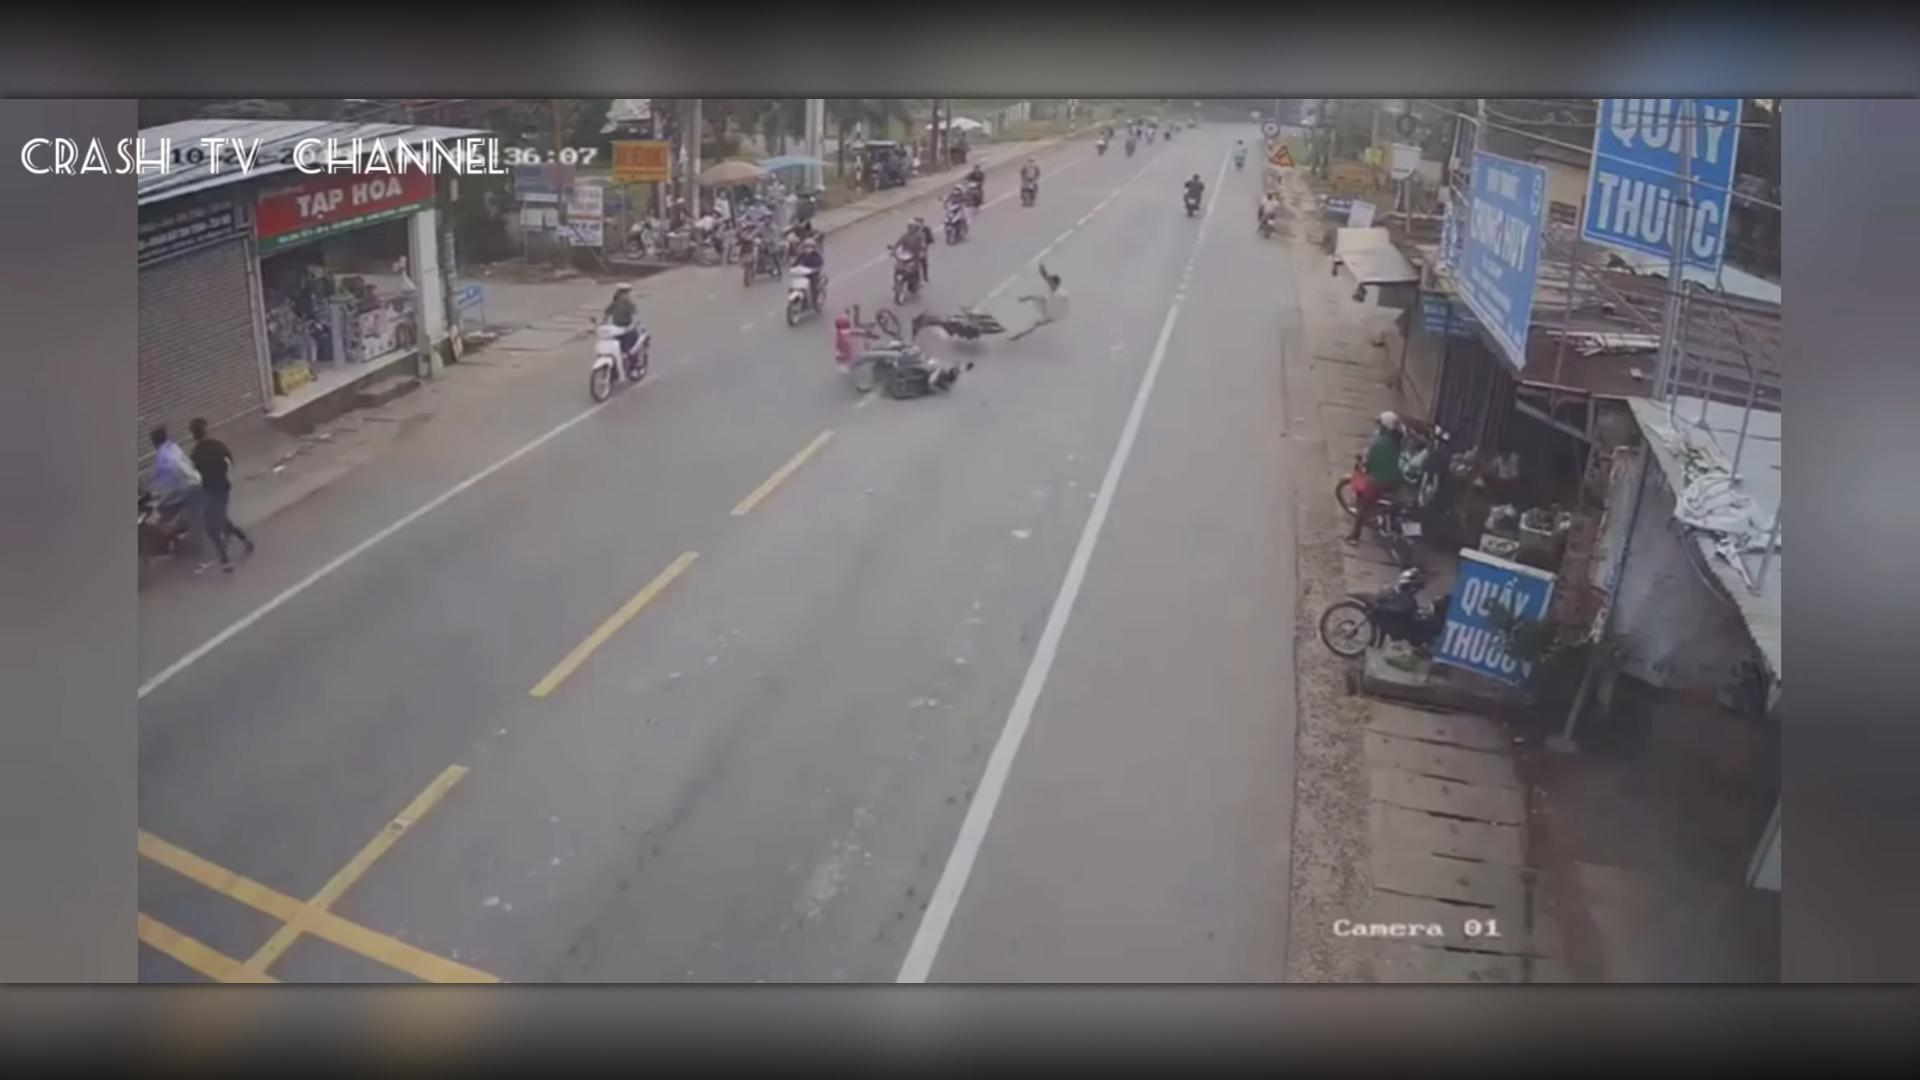accident: (825, 261, 1073, 421), (855, 293, 1004, 404)
